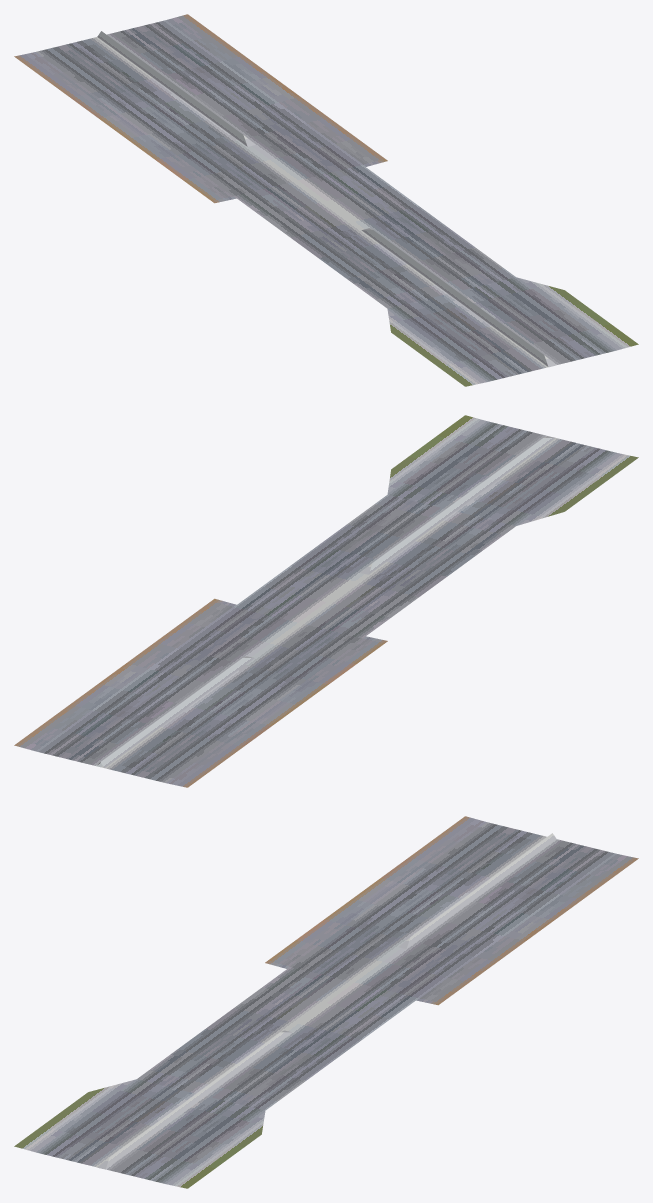
The model's file is lodasnroad01.obj.
3 renders of one model, top to bottom at view 1: azimuth 30°, elevation 25°; view 2: azimuth 150°, elevation 25°; view 3: azimuth 330°, elevation 25°, orthographic.
Parts seen in each view (by area): view 1: lodasNroad01; view 2: lodasNroad01; view 3: lodasNroad01.
Part boxes in pixels (box(x1,y1,x2,y2)): lodasNroad01: box(14, 14, 638, 386); lodasNroad01: box(14, 415, 638, 787); lodasNroad01: box(14, 816, 638, 1188).
Bounding box in the file's own units: 40.01 × 1.14 × 180.
3 materials, 3 textured.
